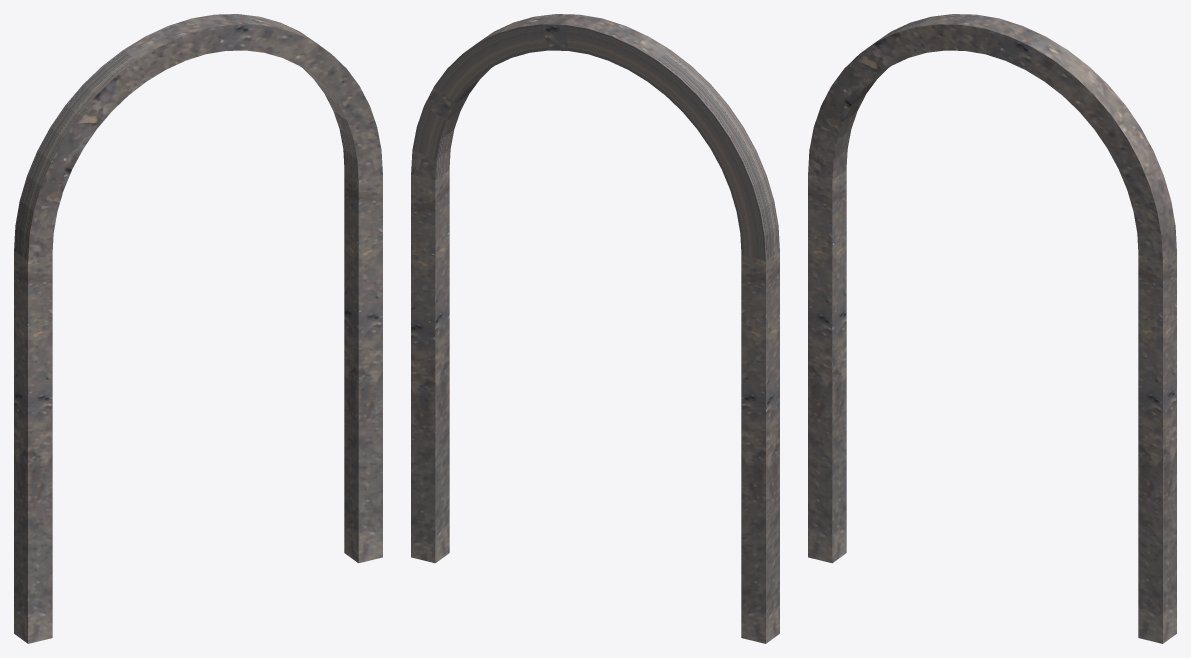
The model's file is doorway.glb.
3 views of the same model, side by side, from view 1: azimuth 30°, elevation 25°; view 2: azimuth 150°, elevation 25°; view 3: azimuth 330°, elevation 25° (orthographic).
Visible parts, largest first — view 1: Cube; view 2: Cube; view 3: Cube.
Part boxes in pixels (x1,y1,x2,y2): Cube: [14, 14, 382, 643]; Cube: [411, 14, 779, 643]; Cube: [808, 14, 1176, 643].
Size of the model in its own units: 2.91 by 4.48 by 0.2.
Materials: 1 (1 with a texture image).
